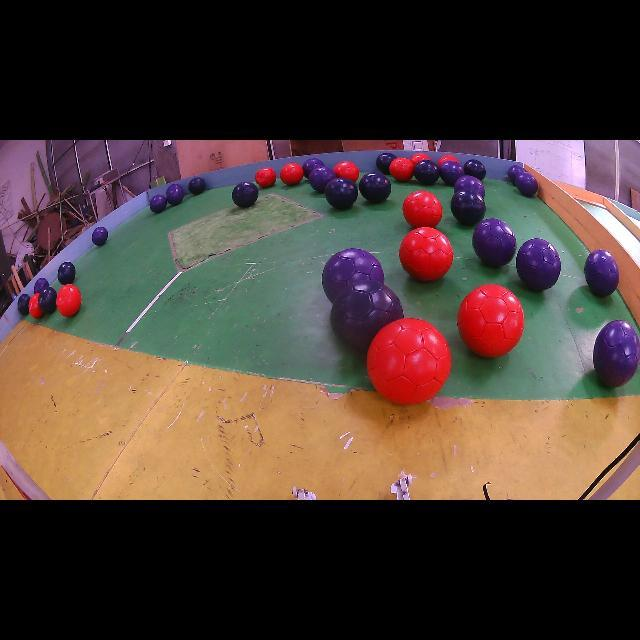B: (330, 280, 404, 351), (450, 189, 486, 225), (325, 178, 358, 209), (359, 172, 391, 202), (232, 181, 259, 208), (414, 160, 440, 185), (39, 286, 58, 314), (464, 159, 486, 180), (376, 152, 396, 175), (58, 261, 76, 285), (189, 178, 206, 195), (18, 294, 30, 316)
P: (322, 248, 385, 302), (594, 320, 640, 388), (516, 239, 561, 291), (472, 218, 516, 268), (584, 250, 619, 297), (454, 175, 485, 198), (309, 166, 336, 192), (440, 160, 465, 185), (515, 172, 538, 196), (302, 159, 324, 179), (166, 184, 184, 205), (508, 165, 526, 184), (91, 226, 108, 246), (150, 194, 168, 212), (34, 278, 49, 293), (167, 184, 182, 191)
R: (368, 318, 451, 404), (458, 285, 525, 358), (399, 228, 454, 280), (402, 191, 442, 228), (56, 284, 81, 316), (390, 158, 415, 181), (280, 162, 304, 185), (334, 161, 359, 182), (255, 168, 276, 188), (29, 292, 44, 319), (410, 152, 431, 165), (438, 155, 459, 166)
